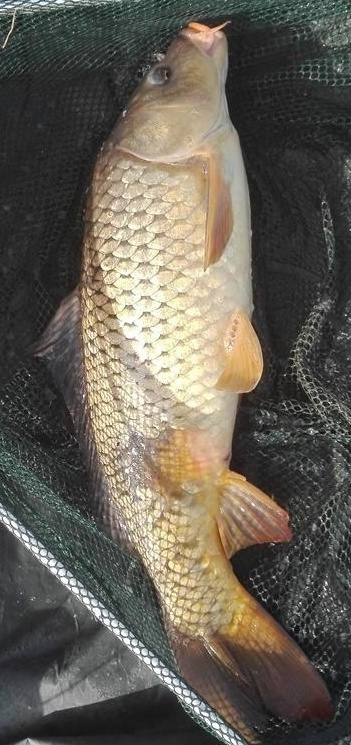Cyprinus carpio: (20, 20, 331, 725)
